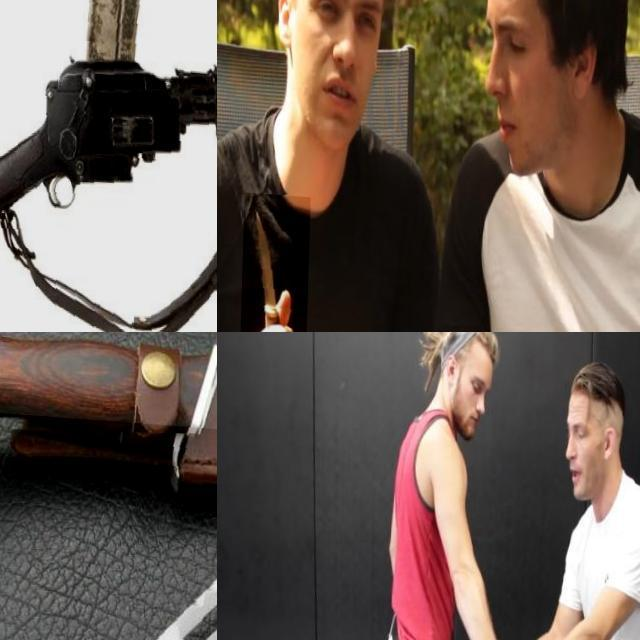-: (0, 408, 217, 640), (241, 190, 313, 332)
gun-knife-thesis - v11 Yolov5 augmented: (0, 0, 217, 332)
